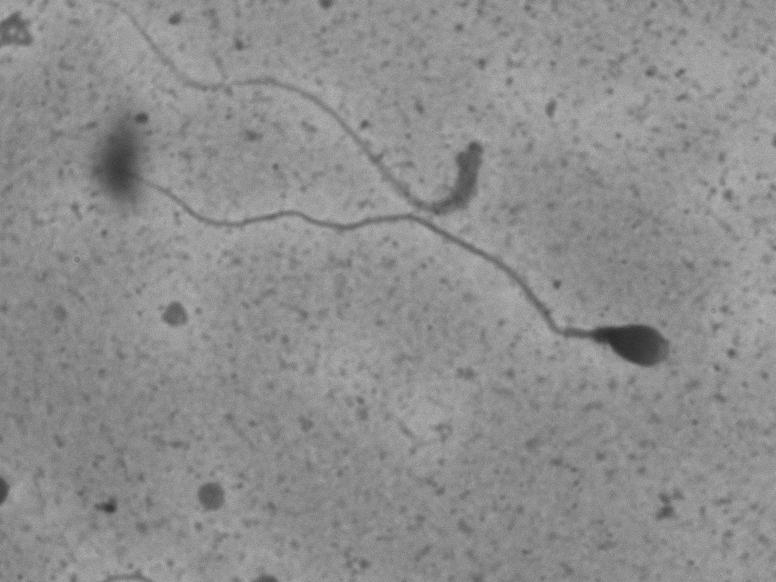Abnormal: (57, 142, 685, 393)
